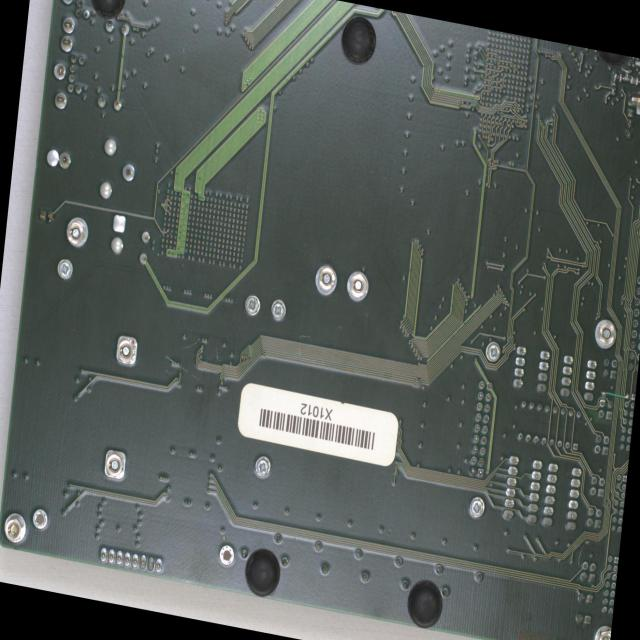Connector: (626, 57, 640, 121)
Pins: (238, 525, 486, 606), (515, 397, 585, 453), (48, 0, 82, 115), (96, 18, 131, 112), (97, 134, 138, 204), (468, 378, 494, 479), (526, 458, 560, 528), (96, 543, 164, 573), (558, 352, 598, 402), (512, 344, 552, 394), (626, 273, 640, 374), (566, 466, 584, 533), (618, 390, 636, 453), (601, 553, 619, 616), (503, 454, 520, 520), (610, 473, 627, 533), (107, 210, 128, 258), (65, 53, 87, 96), (44, 144, 74, 173), (575, 590, 594, 626), (138, 227, 154, 267), (601, 356, 619, 380), (593, 432, 611, 456), (74, 0, 95, 20), (589, 475, 607, 498), (586, 506, 603, 530), (580, 560, 597, 584), (598, 396, 614, 421), (624, 107, 636, 140)
Resistor: (623, 68, 630, 80), (613, 72, 621, 82), (601, 390, 607, 402), (630, 76, 638, 84)
